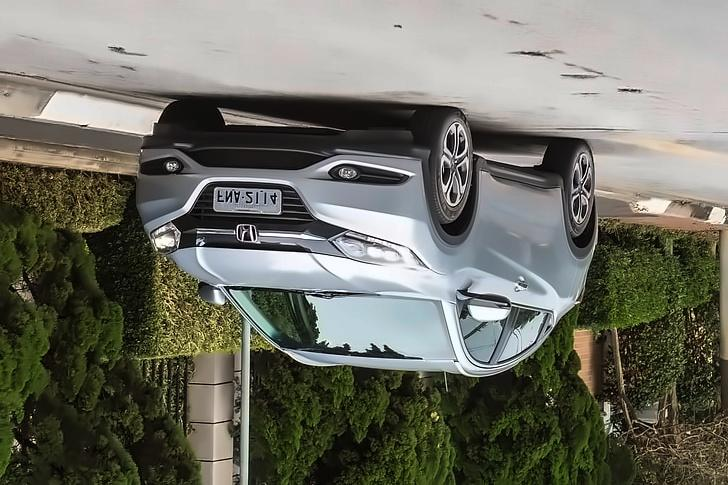Car hood: (166, 247, 453, 302)
Driver-s door - -F-R-: (444, 132, 525, 376)
Front bumper: (131, 122, 435, 250)
Headlight - -L-: (149, 220, 181, 257)
Headlight - -R-: (329, 229, 430, 274)
Passenger-s door - -R-R-: (494, 169, 566, 375)
Side bumper - -R-: (469, 150, 566, 224)
Side mirror - -L-: (552, 200, 599, 323), (195, 277, 231, 310)
Side mirror - -R-: (455, 289, 513, 324)
